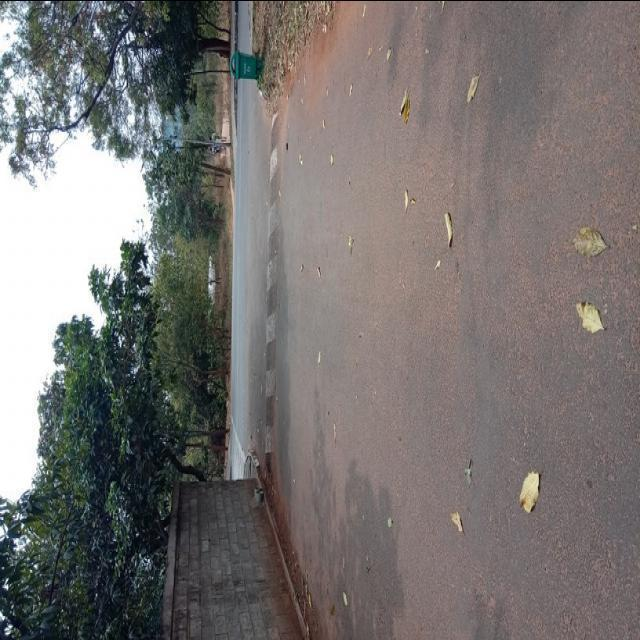speedbreaker: (262, 112, 280, 500)
